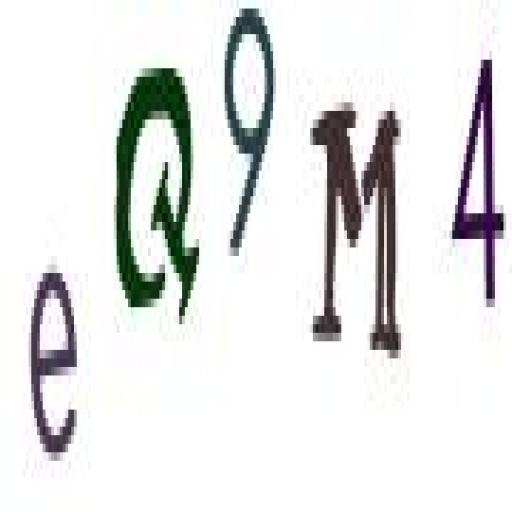4: (447, 53, 510, 320)
9: (222, 4, 280, 269)
M: (304, 88, 410, 368)
Q: (110, 55, 205, 337)
e: (24, 254, 86, 468)
